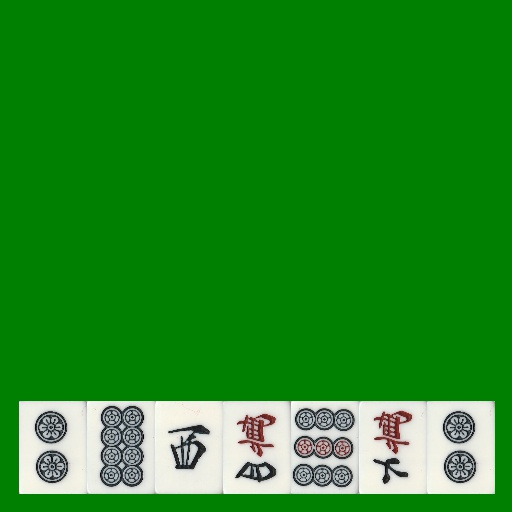2p: (19, 401, 87, 494), (427, 401, 495, 494)
4m: (223, 401, 291, 494)
7m: (359, 401, 427, 494)
8p: (87, 401, 155, 494)
9p: (291, 401, 359, 494)
west: (155, 401, 223, 494)
